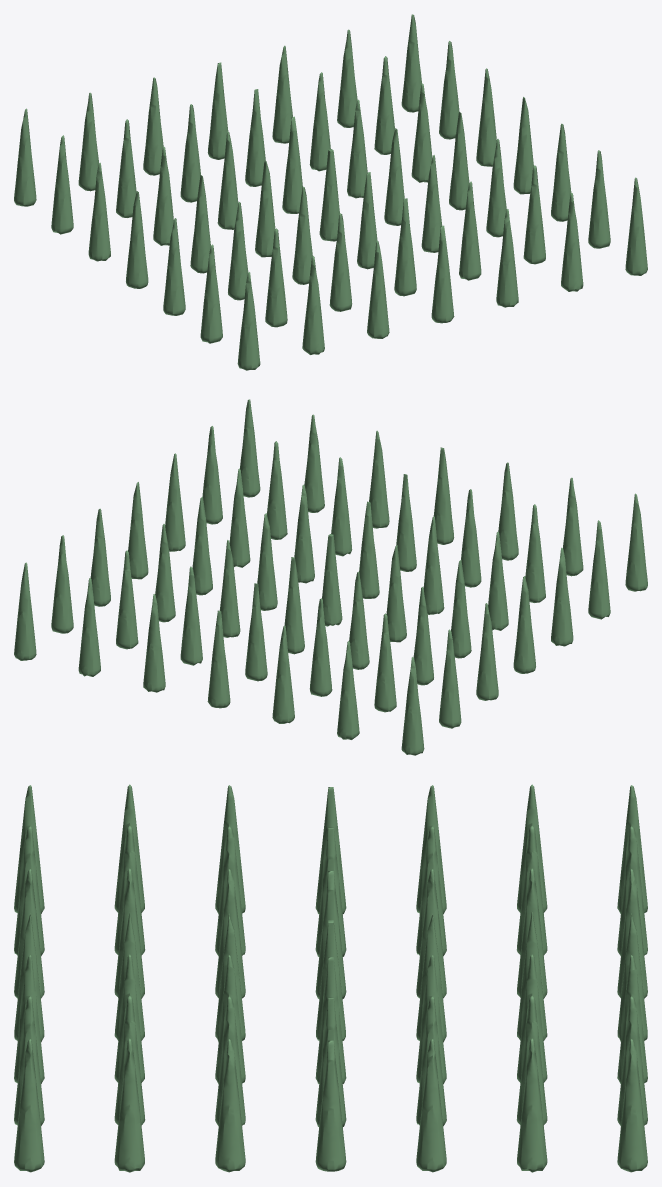
Rendered from grass_patch2.glb.
The picture shows the model from 3 angles, top to bottom: view 1: azimuth 30°, elevation 25°; view 2: azimuth 150°, elevation 25°; view 3: azimuth 270°, elevation 25°; orthographic projection. The views are drawn at different scales.
Parts seen in each view (by area): view 1: grass_patch2; view 2: grass_patch2; view 3: grass_patch2.
Boxes of the visible parts, <box> form: grass_patch2: <box>14,14,647,370</box>; grass_patch2: <box>14,399,647,755</box>; grass_patch2: <box>14,784,647,1172</box>.
Bounding box in the file's own units: 2.27 × 0.5092 × 2.27.
